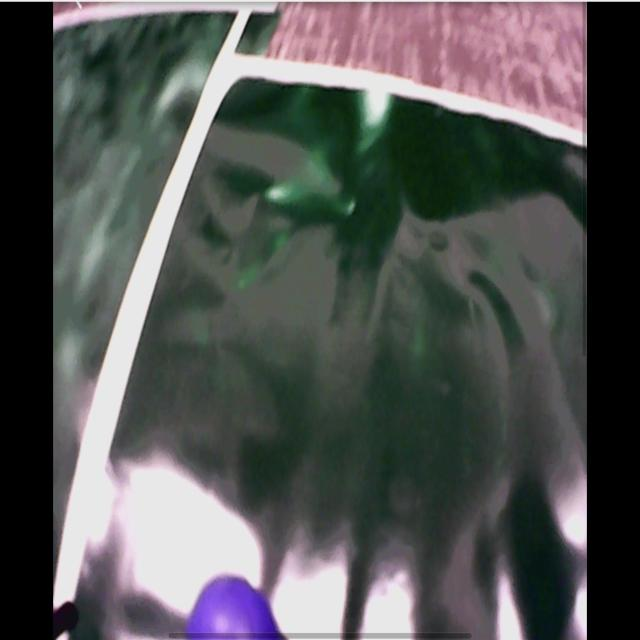ball: (187, 576, 283, 640)
